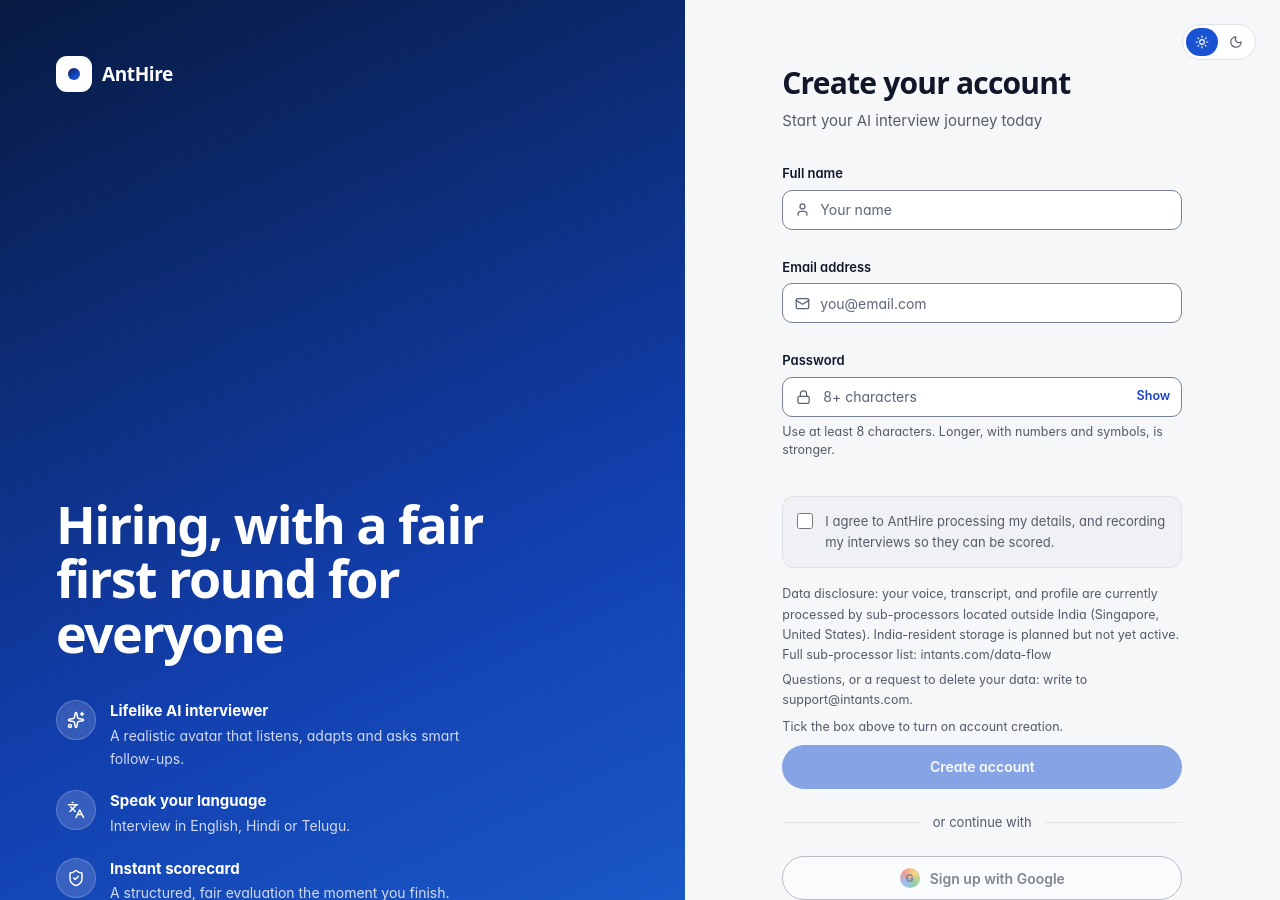
Test: Register page › shows validation errors for empty form submit
Click the checkbox labelled "I agree to AntHire processing". click: (805, 521)
box: [797,513,813,529]
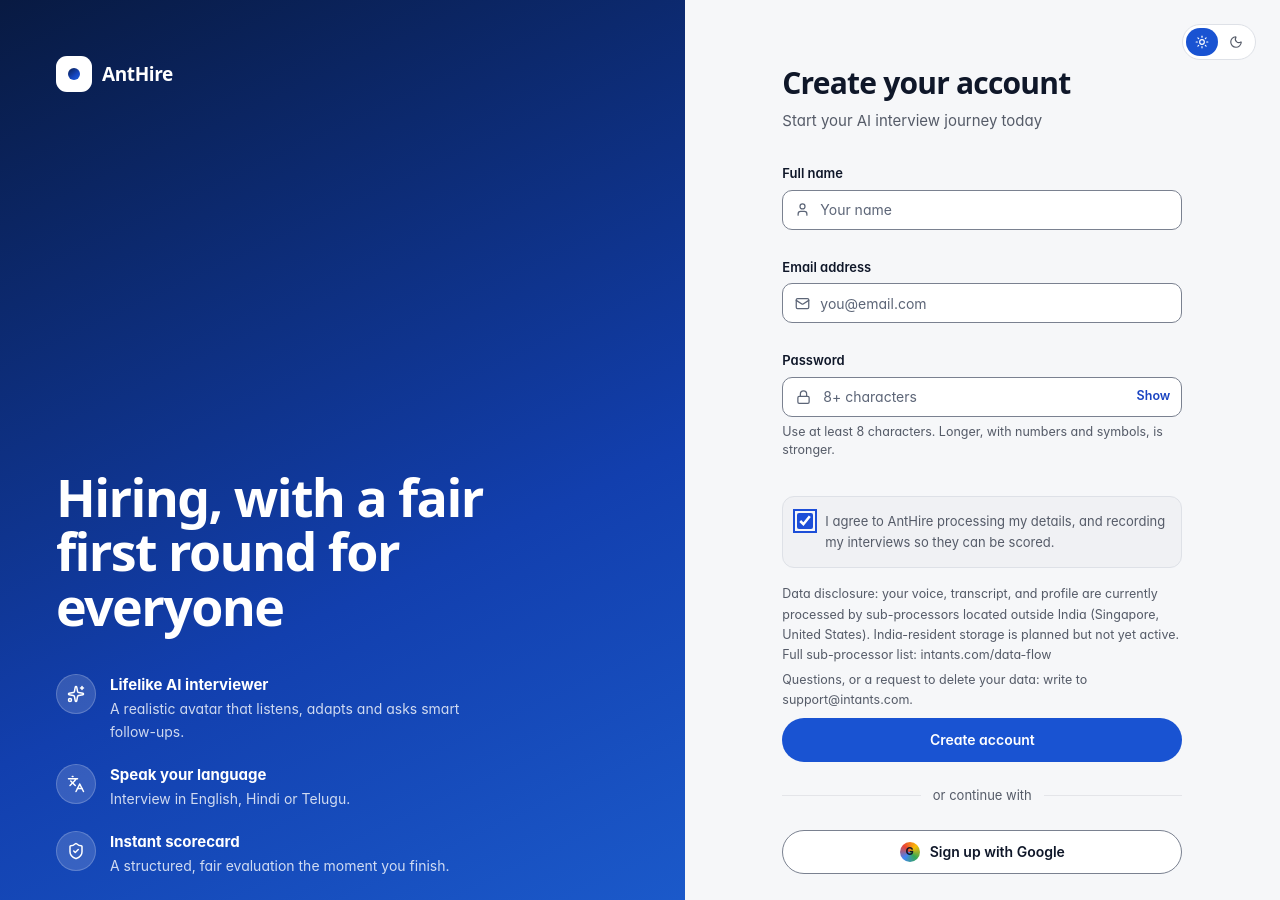
Click the button "Create account". click: (982, 740)
box: [782,718,1182,762]
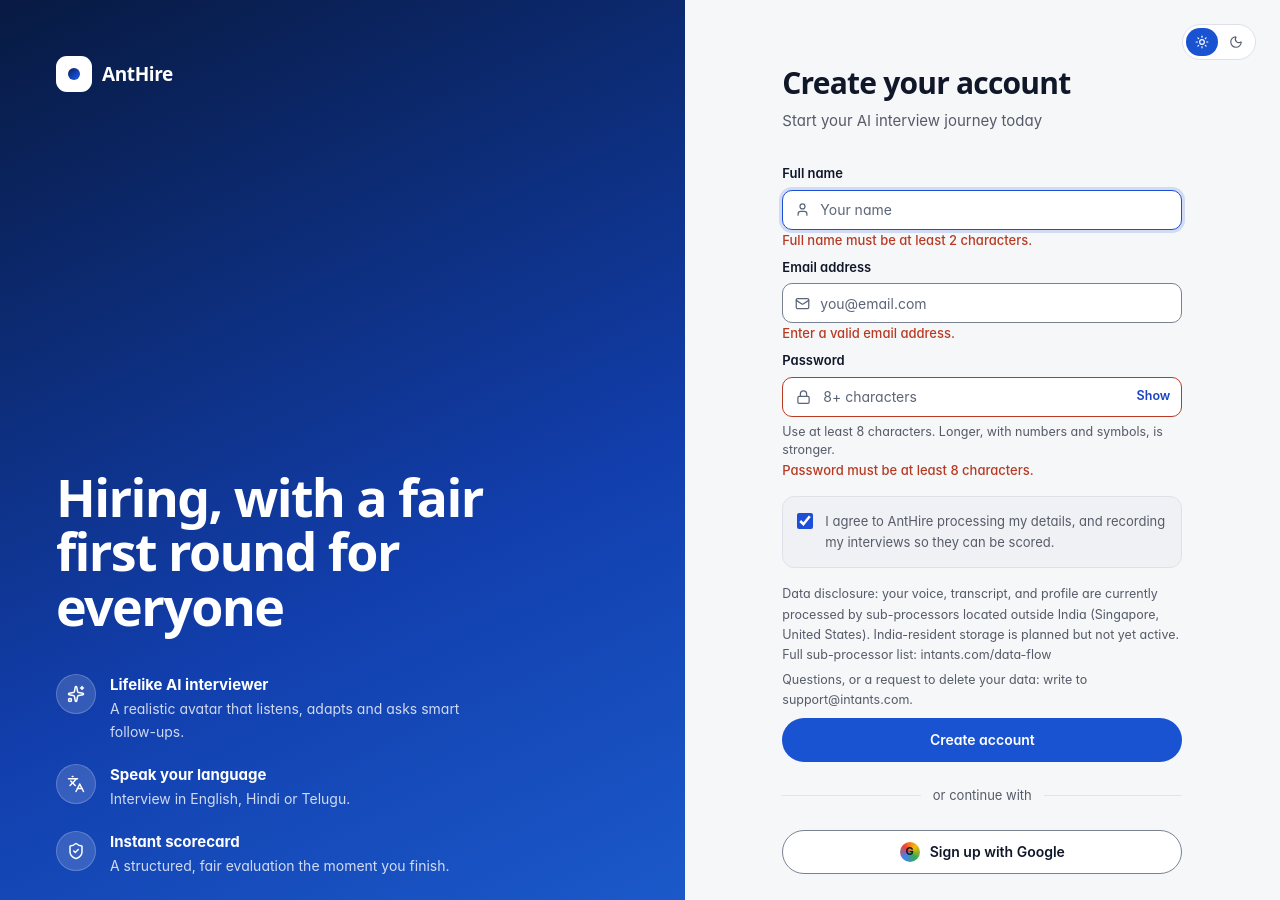
Result: the text "Full name must be at least 2 characters." is shown at [782,232,1032,248]
